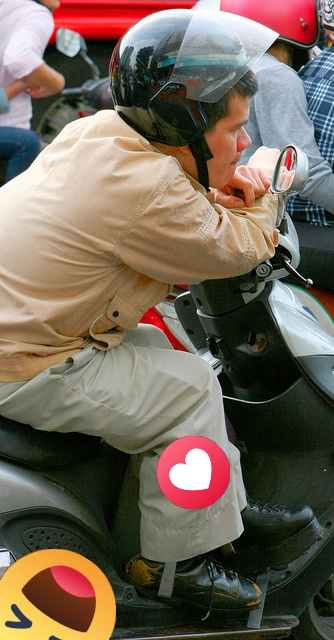haha: (0, 549, 116, 640)
love: (157, 436, 230, 509)
